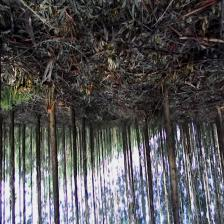trunk: (162, 90, 178, 210), (46, 94, 58, 218), (143, 124, 155, 214), (34, 115, 42, 221), (70, 109, 78, 187), (133, 119, 143, 178), (80, 118, 88, 191), (9, 113, 15, 183), (22, 124, 25, 186)
